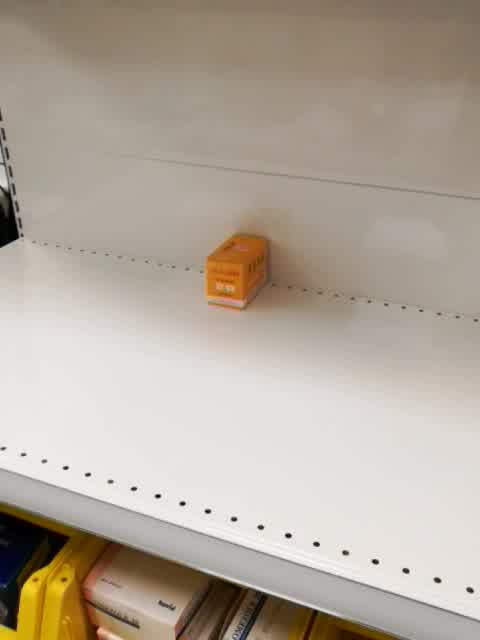jasminetea: (203, 233, 271, 311)
